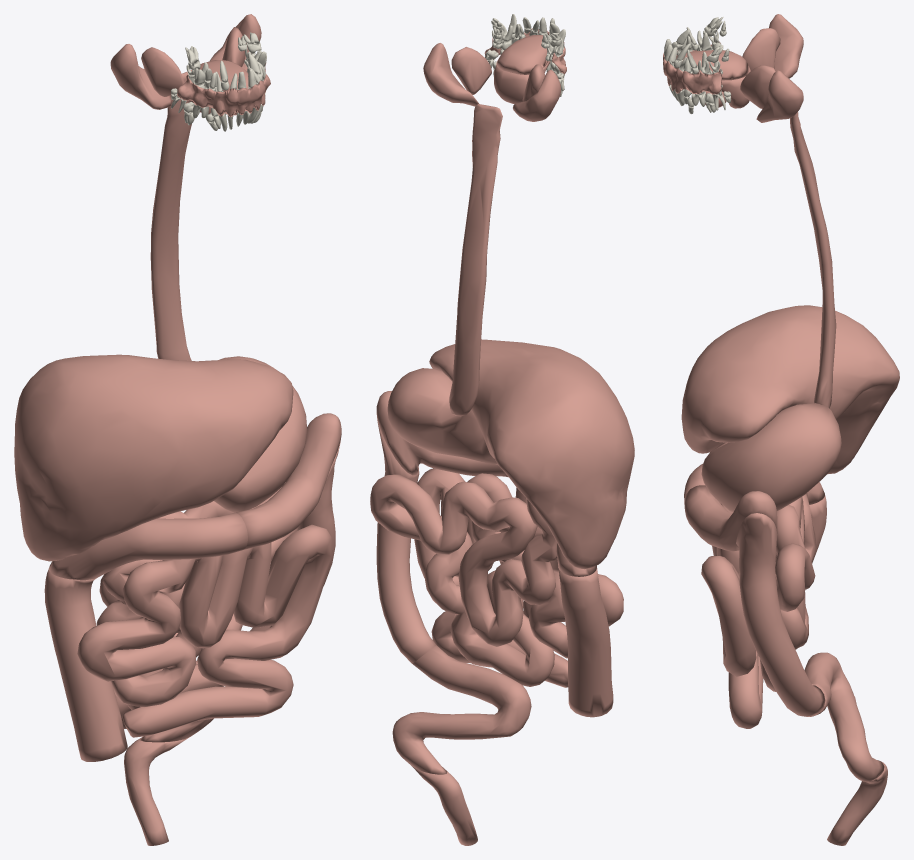
File: pediatric_child_10y_male.digestive.LOD1.glb
3 renders of one model, left to right at view 1: azimuth 30°, elevation 25°; view 2: azimuth 150°, elevation 25°; view 3: azimuth 270°, elevation 25°, orthographic. The views are drawn at different scales.
Parts seen in each view (by area): view 1: PEDIATRIC.CHILD_10Y.MALE.DIGESTIVE.LIVER, PEDIATRIC.CHILD_10Y.MALE.DIGESTIVE.SMALL_INTESTINE_WALL, PEDIATRIC.CHILD_10Y.MALE.DIGESTIVE.ASCENDING_COLON_WALL, PEDIATRIC.CHILD_10Y.MALE.DIGESTIVE.OESOPHAGUS_WALL, PEDIATRIC.CHILD_10Y.MALE.DIGESTIVE.TRANSVERSE_COLON_WALL.R, PEDIATRIC.CHILD_10Y.MALE.DIGESTIVE.TRANSVERSE_COLON_WALL.L, PEDIATRIC.CHILD_10Y.MALE.DIGESTIVE.STOMACH_WALL, PEDIATRIC.CHILD_10Y.MALE.DIGESTIVE.SALIVARY_GLANDS.R, PEDIATRIC.CHILD_10Y.MALE.DIGESTIVE.RECTUM_WALL, PEDIATRIC.CHILD_10Y.MALE.DIGESTIVE.PERMANENT_CEMENTUM, PEDIATRIC.CHILD_10Y.MALE.DIGESTIVE.ORAL_MUCOSA_LIP_AND_CHEEK, PEDIATRIC.CHILD_10Y.MALE.DIGESTIVE.DESCENDING_COLON_WALL (+3 smaller); view 2: PEDIATRIC.CHILD_10Y.MALE.DIGESTIVE.SMALL_INTESTINE_WALL, PEDIATRIC.CHILD_10Y.MALE.DIGESTIVE.LIVER, PEDIATRIC.CHILD_10Y.MALE.DIGESTIVE.OESOPHAGUS_WALL, PEDIATRIC.CHILD_10Y.MALE.DIGESTIVE.SIGMOID_COLON_WALL, PEDIATRIC.CHILD_10Y.MALE.DIGESTIVE.ASCENDING_COLON_WALL, PEDIATRIC.CHILD_10Y.MALE.DIGESTIVE.STOMACH_WALL, PEDIATRIC.CHILD_10Y.MALE.DIGESTIVE.DESCENDING_COLON_WALL, PEDIATRIC.CHILD_10Y.MALE.DIGESTIVE.SALIVARY_GLANDS.L, PEDIATRIC.CHILD_10Y.MALE.DIGESTIVE.TRANSVERSE_COLON_WALL.L, PEDIATRIC.CHILD_10Y.MALE.DIGESTIVE.RECTUM_WALL, PEDIATRIC.CHILD_10Y.MALE.DIGESTIVE.SALIVARY_GLANDS.R, PEDIATRIC.CHILD_10Y.MALE.DIGESTIVE.ORAL_MUCOSA_MOUTH_FLOOR (+2 smaller); view 3: PEDIATRIC.CHILD_10Y.MALE.DIGESTIVE.LIVER, PEDIATRIC.CHILD_10Y.MALE.DIGESTIVE.SMALL_INTESTINE_WALL, PEDIATRIC.CHILD_10Y.MALE.DIGESTIVE.STOMACH_WALL, PEDIATRIC.CHILD_10Y.MALE.DIGESTIVE.DESCENDING_COLON_WALL, PEDIATRIC.CHILD_10Y.MALE.DIGESTIVE.SIGMOID_COLON_WALL, PEDIATRIC.CHILD_10Y.MALE.DIGESTIVE.OESOPHAGUS_WALL, PEDIATRIC.CHILD_10Y.MALE.DIGESTIVE.TRANSVERSE_COLON_WALL.L, PEDIATRIC.CHILD_10Y.MALE.DIGESTIVE.SALIVARY_GLANDS.L, PEDIATRIC.CHILD_10Y.MALE.DIGESTIVE.SALIVARY_GLANDS.R, PEDIATRIC.CHILD_10Y.MALE.DIGESTIVE.PERMANENT_CEMENTUM, PEDIATRIC.CHILD_10Y.MALE.DIGESTIVE.RECTUM_WALL, PEDIATRIC.CHILD_10Y.MALE.DIGESTIVE.ORAL_MUCOSA_LIP_AND_CHEEK (+5 smaller).
Boxes of the visible parts, x1,y1,x2,y2 form: PEDIATRIC.CHILD_10Y.MALE.DIGESTIVE.LIVER: [14, 354, 293, 561]; PEDIATRIC.CHILD_10Y.MALE.DIGESTIVE.SMALL_INTESTINE_WALL: [77, 482, 332, 737]; PEDIATRIC.CHILD_10Y.MALE.DIGESTIVE.ASCENDING_COLON_WALL: [44, 569, 127, 761]; PEDIATRIC.CHILD_10Y.MALE.DIGESTIVE.OESOPHAGUS_WALL: [150, 69, 191, 360]; PEDIATRIC.CHILD_10Y.MALE.DIGESTIVE.TRANSVERSE_COLON_WALL.R: [49, 513, 247, 580]; PEDIATRIC.CHILD_10Y.MALE.DIGESTIVE.TRANSVERSE_COLON_WALL.L: [234, 413, 341, 549]; PEDIATRIC.CHILD_10Y.MALE.DIGESTIVE.STOMACH_WALL: [214, 356, 307, 512]; PEDIATRIC.CHILD_10Y.MALE.DIGESTIVE.SALIVARY_GLANDS.R: [110, 44, 226, 114]; PEDIATRIC.CHILD_10Y.MALE.DIGESTIVE.RECTUM_WALL: [124, 737, 189, 845]; PEDIATRIC.CHILD_10Y.MALE.DIGESTIVE.PERMANENT_CEMENTUM: [171, 32, 266, 131]; PEDIATRIC.CHILD_10Y.MALE.DIGESTIVE.ORAL_MUCOSA_LIP_AND_CHEEK: [177, 63, 270, 116]; PEDIATRIC.CHILD_10Y.MALE.DIGESTIVE.DESCENDING_COLON_WALL: [250, 441, 340, 631]; PEDIATRIC.CHILD_10Y.MALE.DIGESTIVE.SMALL_INTESTINE_WALL: [370, 468, 623, 687]; PEDIATRIC.CHILD_10Y.MALE.DIGESTIVE.LIVER: [429, 339, 634, 569]; PEDIATRIC.CHILD_10Y.MALE.DIGESTIVE.OESOPHAGUS_WALL: [449, 104, 502, 416]; PEDIATRIC.CHILD_10Y.MALE.DIGESTIVE.SIGMOID_COLON_WALL: [392, 645, 531, 774]; PEDIATRIC.CHILD_10Y.MALE.DIGESTIVE.ASCENDING_COLON_WALL: [558, 568, 613, 717]; PEDIATRIC.CHILD_10Y.MALE.DIGESTIVE.STOMACH_WALL: [387, 368, 497, 464]; PEDIATRIC.CHILD_10Y.MALE.DIGESTIVE.DESCENDING_COLON_WALL: [376, 414, 436, 663]; PEDIATRIC.CHILD_10Y.MALE.DIGESTIVE.SALIVARY_GLANDS.L: [423, 43, 491, 106]; PEDIATRIC.CHILD_10Y.MALE.DIGESTIVE.TRANSVERSE_COLON_WALL.L: [376, 391, 508, 477]; PEDIATRIC.CHILD_10Y.MALE.DIGESTIVE.RECTUM_WALL: [412, 766, 477, 845]; PEDIATRIC.CHILD_10Y.MALE.DIGESTIVE.SALIVARY_GLANDS.R: [513, 64, 560, 121]; PEDIATRIC.CHILD_10Y.MALE.DIGESTIVE.ORAL_MUCOSA_MOUTH_FLOOR: [496, 35, 548, 74]; PEDIATRIC.CHILD_10Y.MALE.DIGESTIVE.LIVER: [681, 305, 899, 474]; PEDIATRIC.CHILD_10Y.MALE.DIGESTIVE.SMALL_INTESTINE_WALL: [701, 493, 816, 728]; PEDIATRIC.CHILD_10Y.MALE.DIGESTIVE.STOMACH_WALL: [701, 403, 841, 512]; PEDIATRIC.CHILD_10Y.MALE.DIGESTIVE.DESCENDING_COLON_WALL: [736, 513, 825, 716]; PEDIATRIC.CHILD_10Y.MALE.DIGESTIVE.SIGMOID_COLON_WALL: [804, 652, 884, 781]; PEDIATRIC.CHILD_10Y.MALE.DIGESTIVE.OESOPHAGUS_WALL: [790, 112, 836, 408]; PEDIATRIC.CHILD_10Y.MALE.DIGESTIVE.TRANSVERSE_COLON_WALL.L: [684, 485, 777, 551]; PEDIATRIC.CHILD_10Y.MALE.DIGESTIVE.SALIVARY_GLANDS.L: [705, 65, 803, 122]; PEDIATRIC.CHILD_10Y.MALE.DIGESTIVE.SALIVARY_GLANDS.R: [742, 14, 803, 78]; PEDIATRIC.CHILD_10Y.MALE.DIGESTIVE.PERMANENT_CEMENTUM: [664, 17, 731, 114]; PEDIATRIC.CHILD_10Y.MALE.DIGESTIVE.RECTUM_WALL: [827, 761, 887, 845]; PEDIATRIC.CHILD_10Y.MALE.DIGESTIVE.ORAL_MUCOSA_LIP_AND_CHEEK: [663, 41, 721, 94].
Size of the model in its own units: 0.2201 by 0.6191 by 0.1636.
